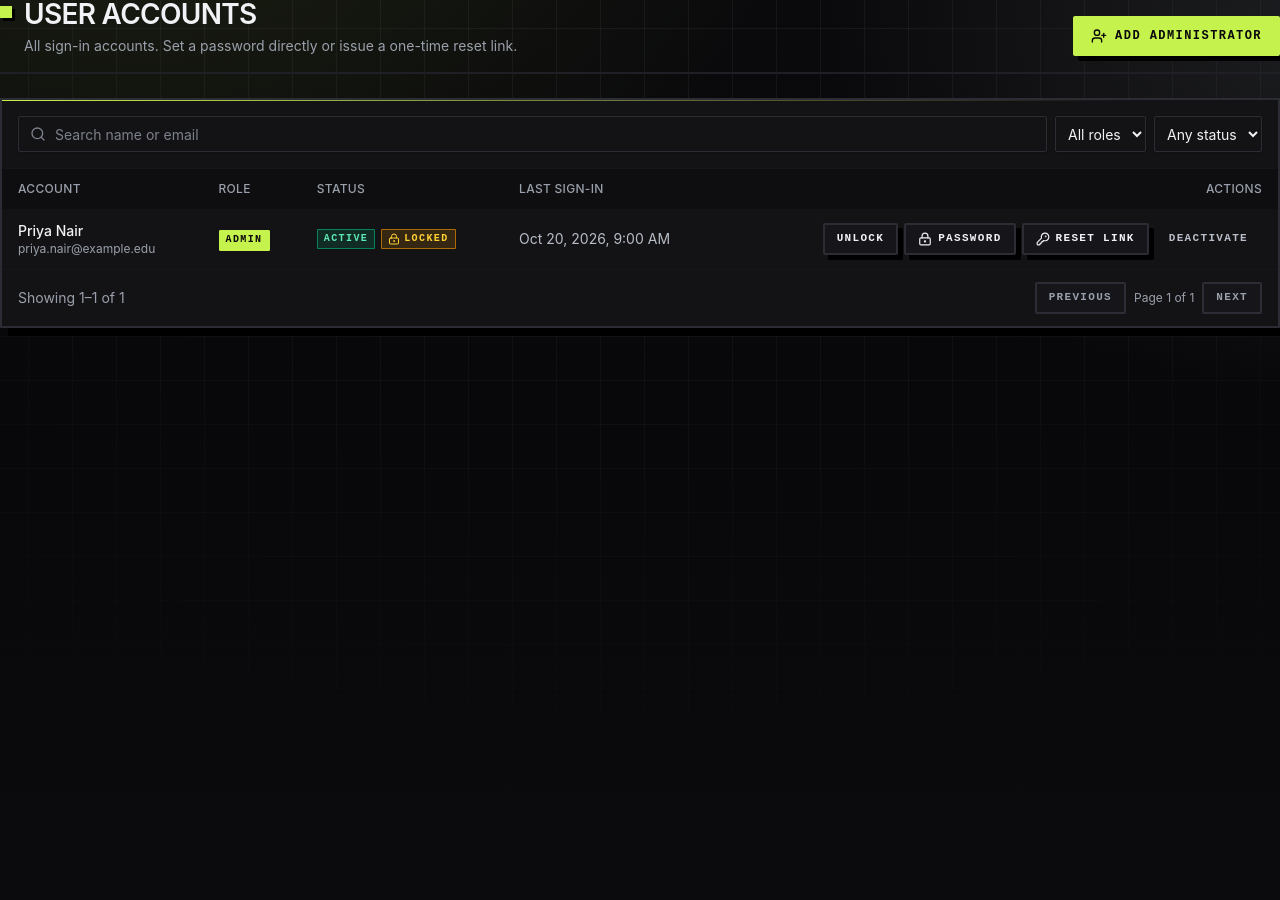
Scenario: admin user console › creates an administrator without a password and shows the reset link
Click the button "Add administrator": (1177, 36) [1073,16,1279,56]
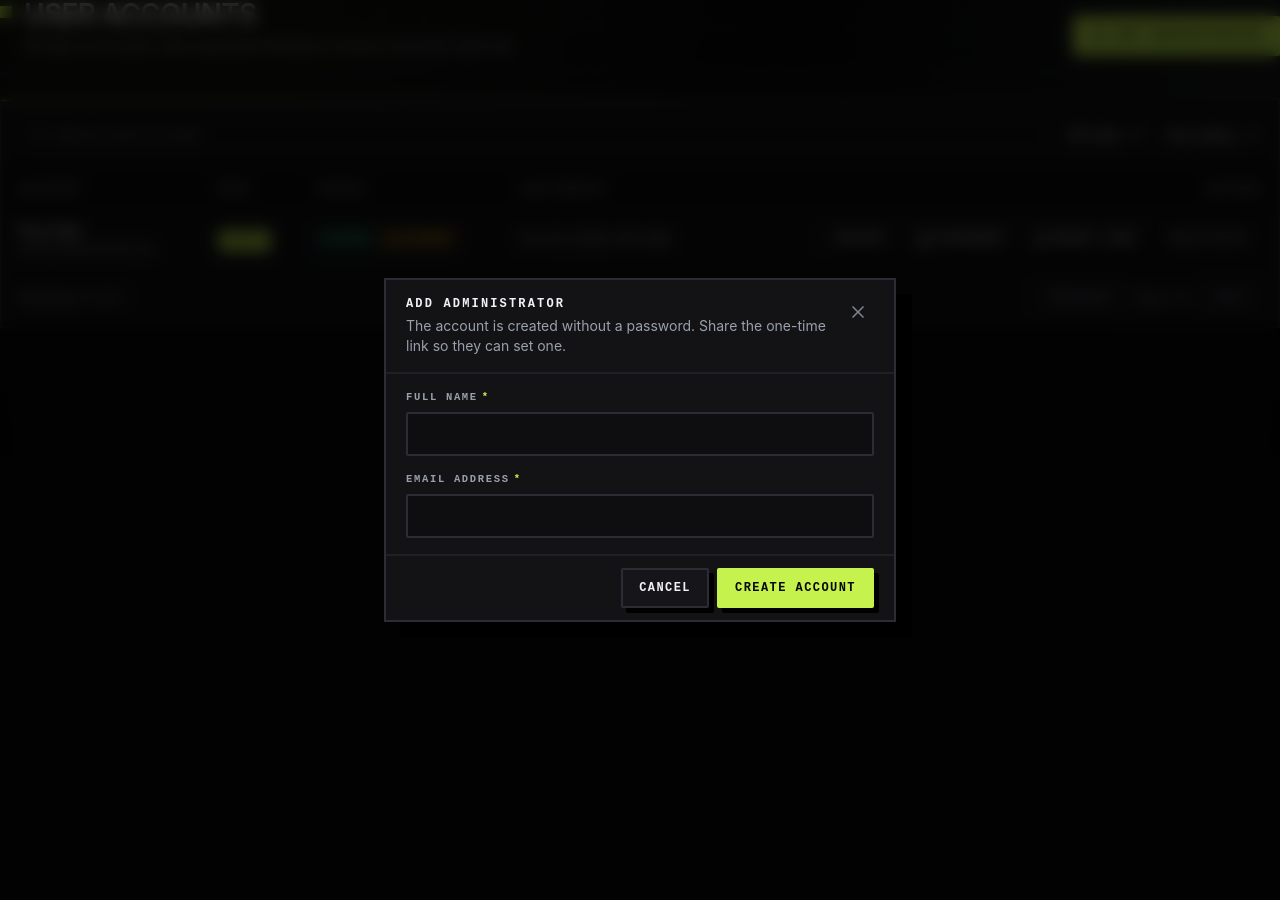
In the field labelled "Full name*": (640, 434) [406,412,874,456], type "New Admin"
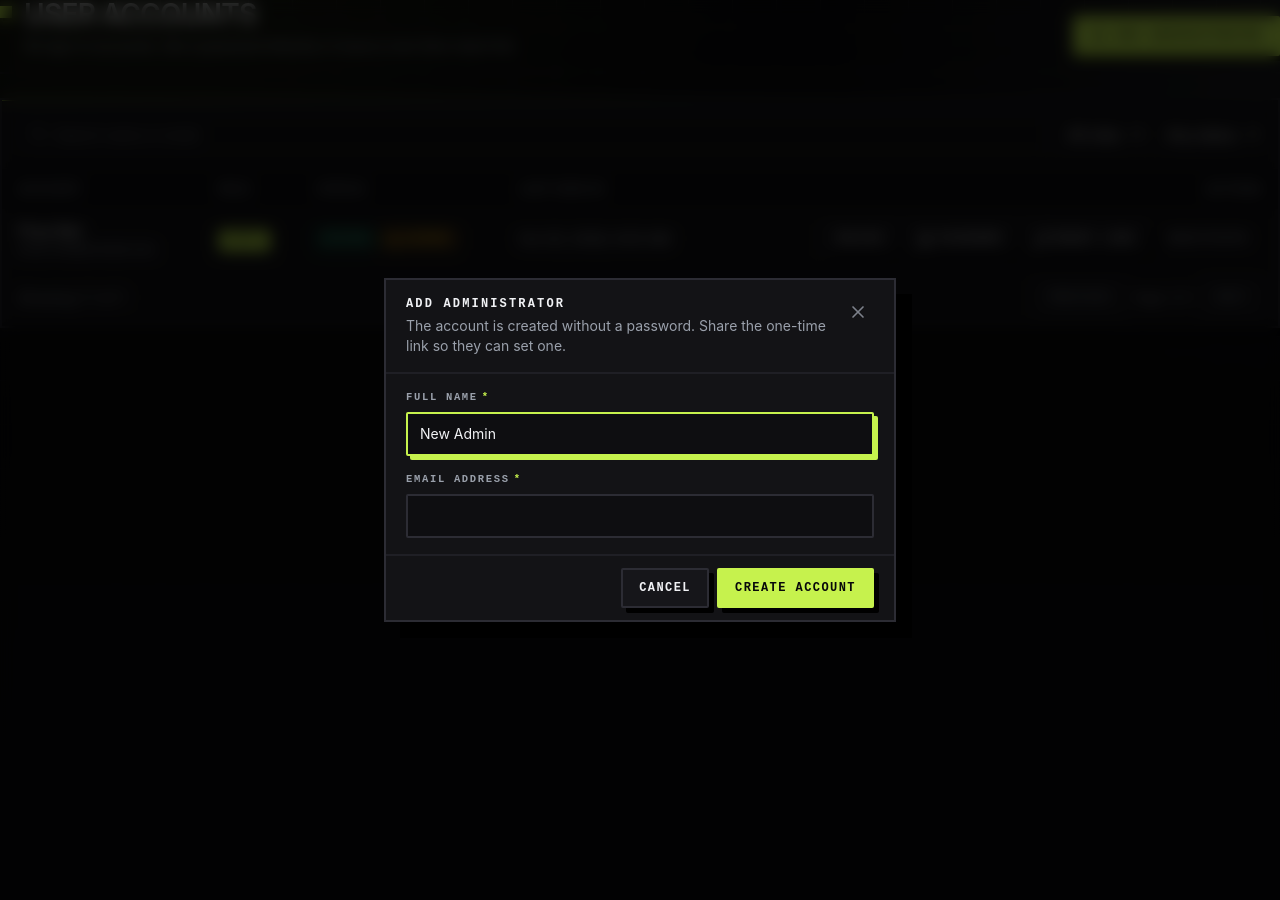
In the field labelled "Email address*": (640, 516) [406,494,874,538], type "new.admin@example.edu"
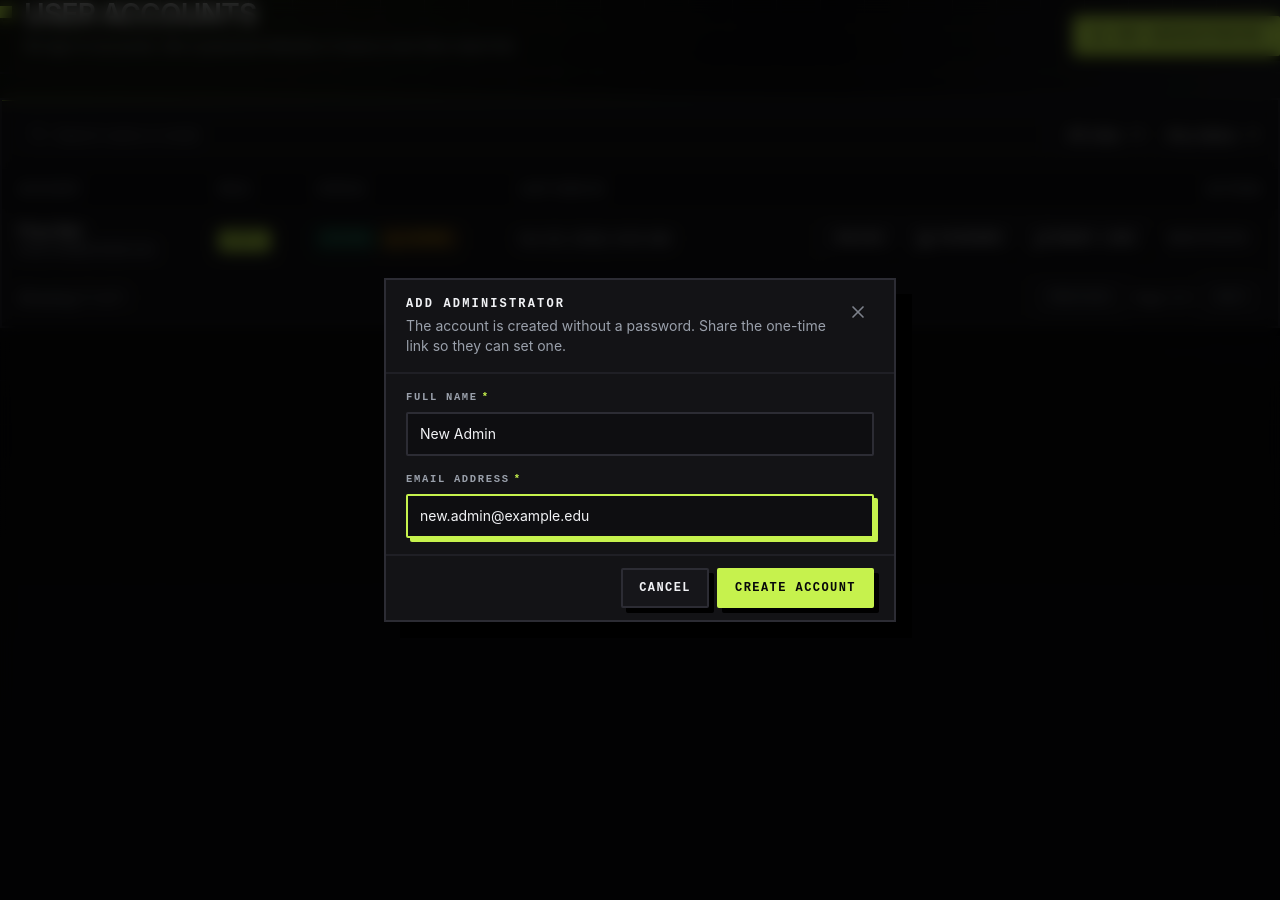
Click the button "Create account": (796, 588) [717,568,874,608]
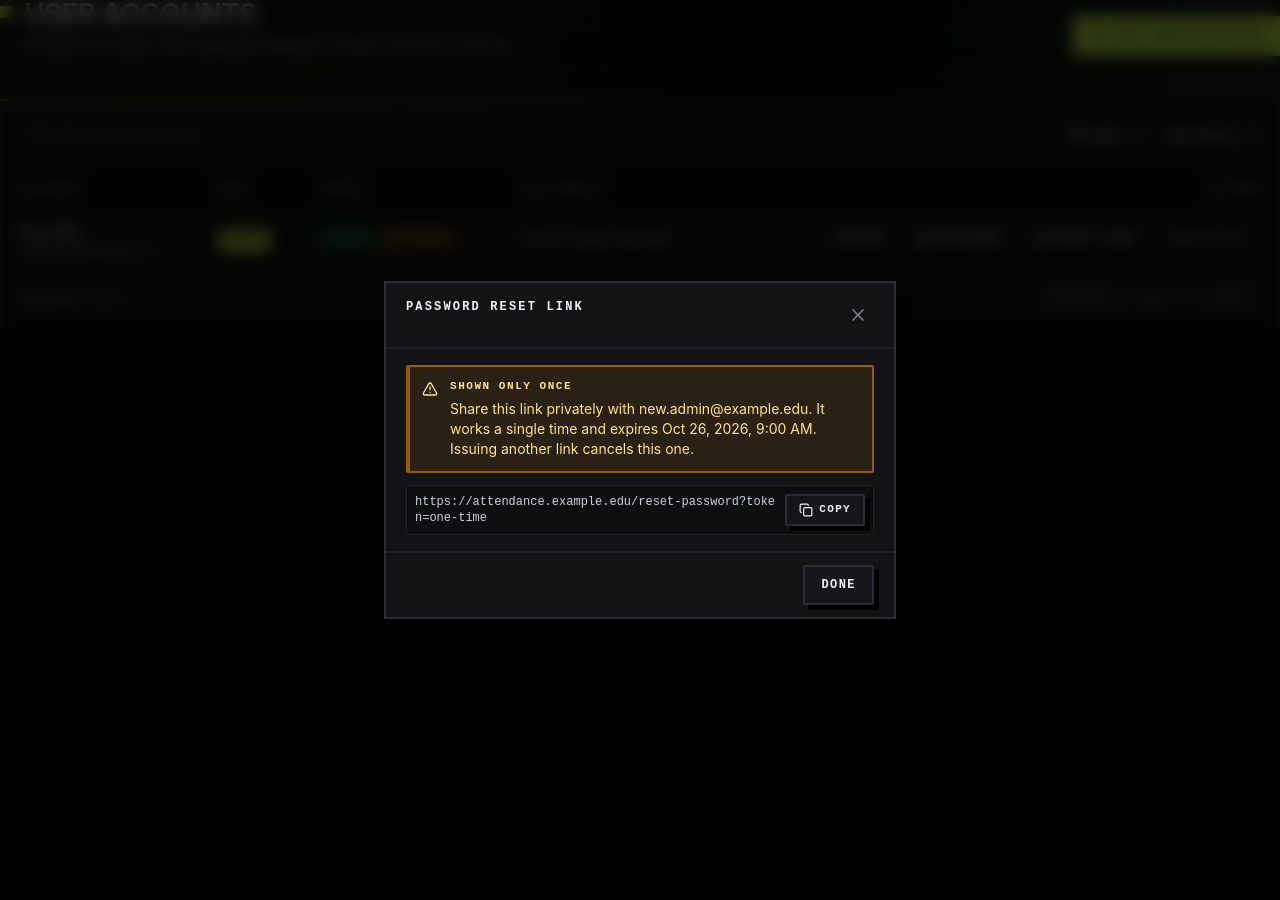
Expected: the text "https://attendance.example.edu/reset-password?token=one-time" is shown, [415,494,777,526]
